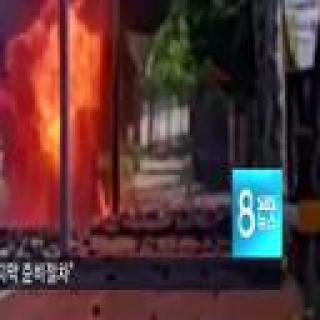fire: (7, 30, 115, 239)
